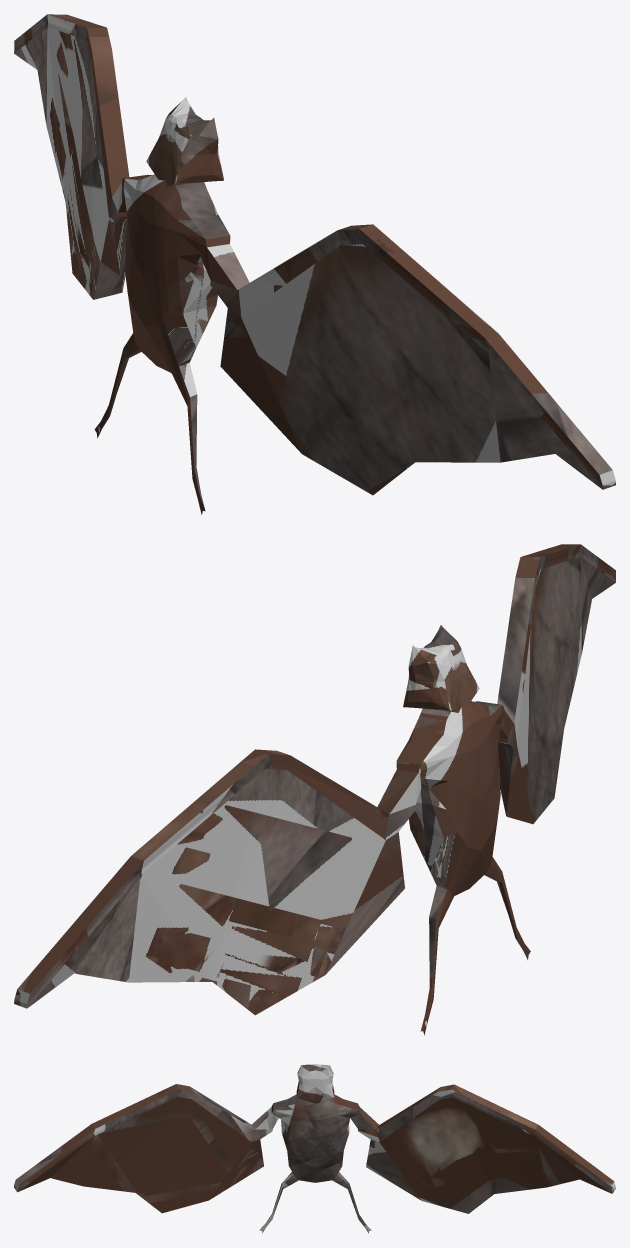
Rendered from Enemigo127.obj.
3 views of the same model, one above another, from view 1: azimuth 30°, elevation 25°; view 2: azimuth 150°, elevation 25°; view 3: azimuth 270°, elevation 25° (orthographic). The views are drawn at different scales.
Visible parts, largest first — view 1: Plano; view 2: Plano; view 3: Plano.
Boxes of the visible parts, x1,y1,x2,y2 form: Plano: (14, 14, 615, 514); Plano: (14, 544, 615, 1035); Plano: (14, 1064, 615, 1233).
Bounding box in the file's own units: 0.4052 × 0.7517 × 2.26.
1 material, 1 textured.
